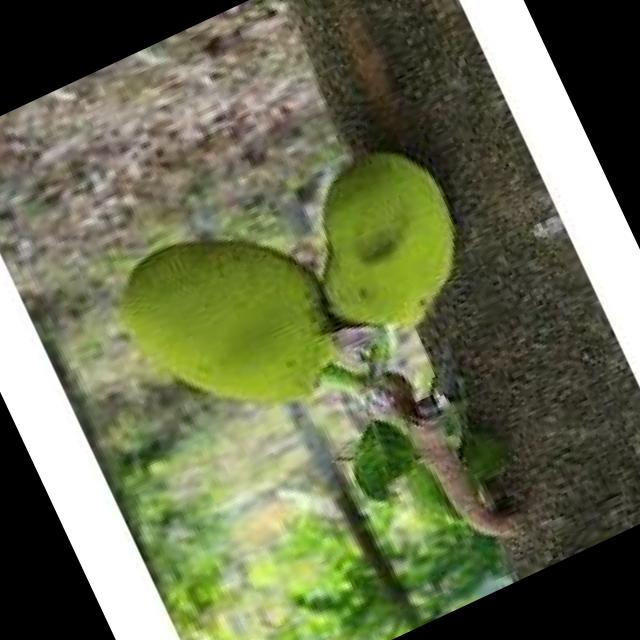Fruit: (80, 167, 386, 479), (256, 104, 514, 378)
